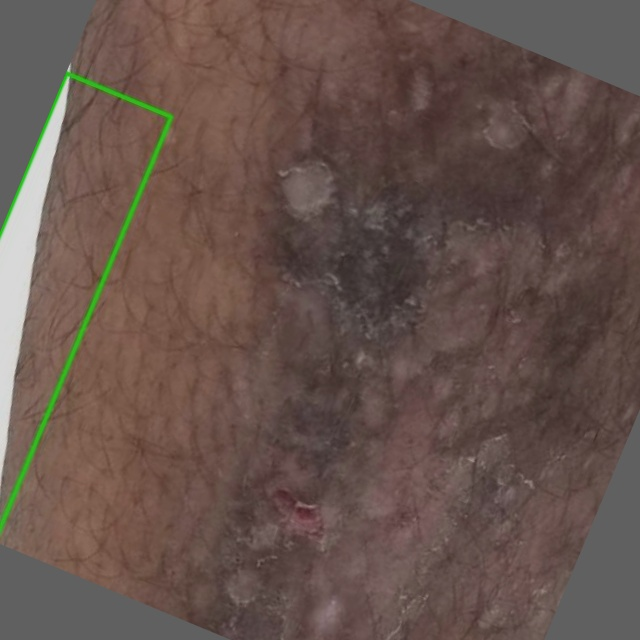Eczema: (0, 73, 171, 528)
